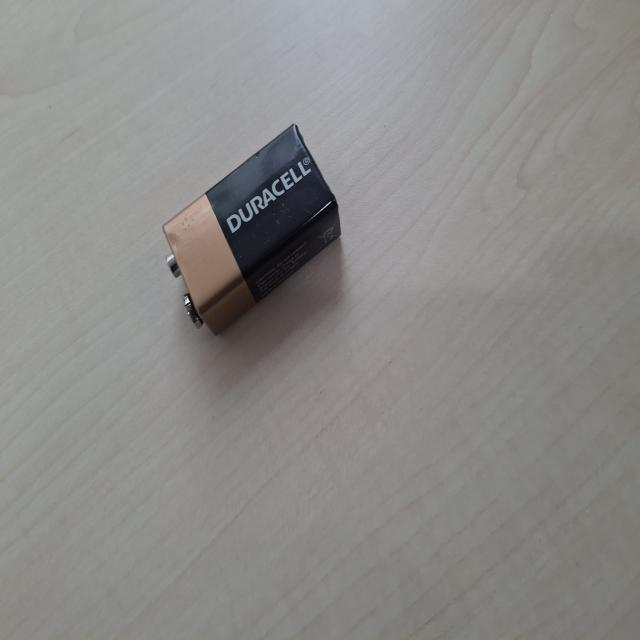9V: (229, 218, 387, 455)
